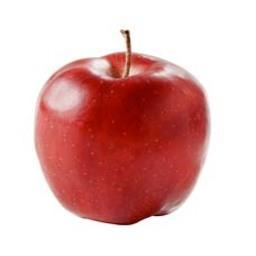apple: (32, 47, 209, 225)
